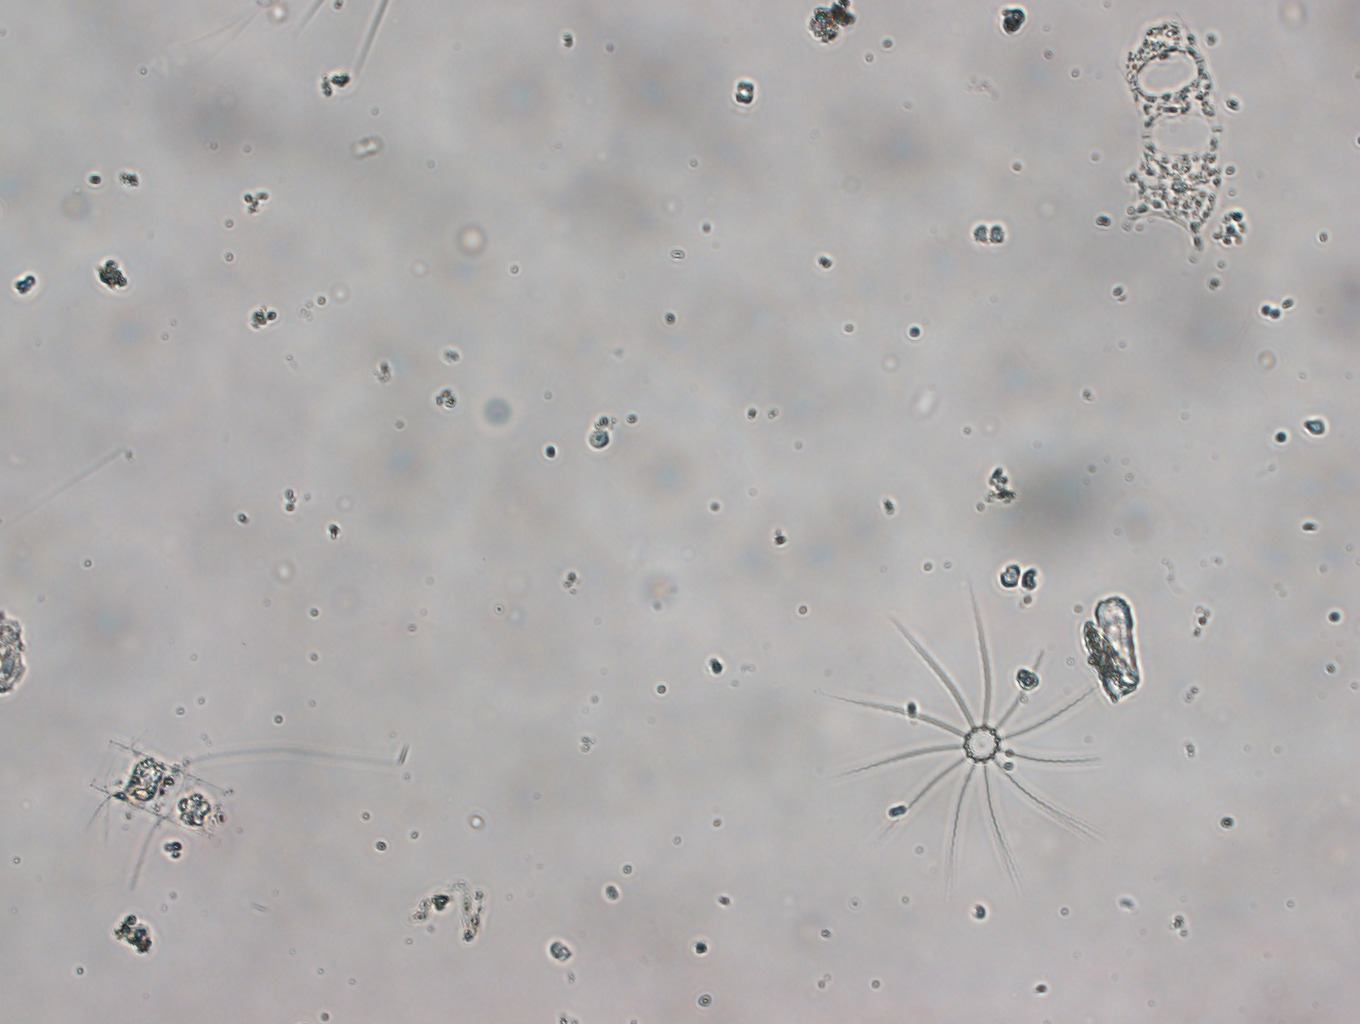bacteriastrum: (838, 569, 1119, 883)
eucampia: (1120, 13, 1220, 237)
